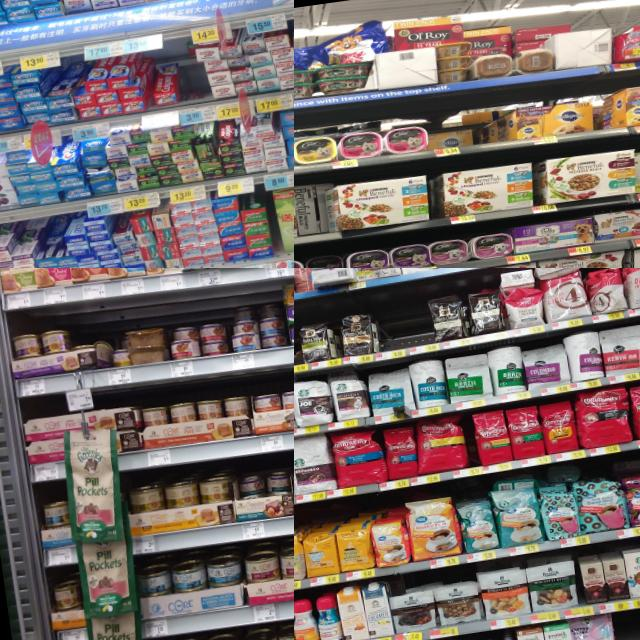100- O.O.S: (374, 310, 436, 358), (183, 60, 212, 124), (613, 606, 640, 640), (294, 328, 304, 375)
